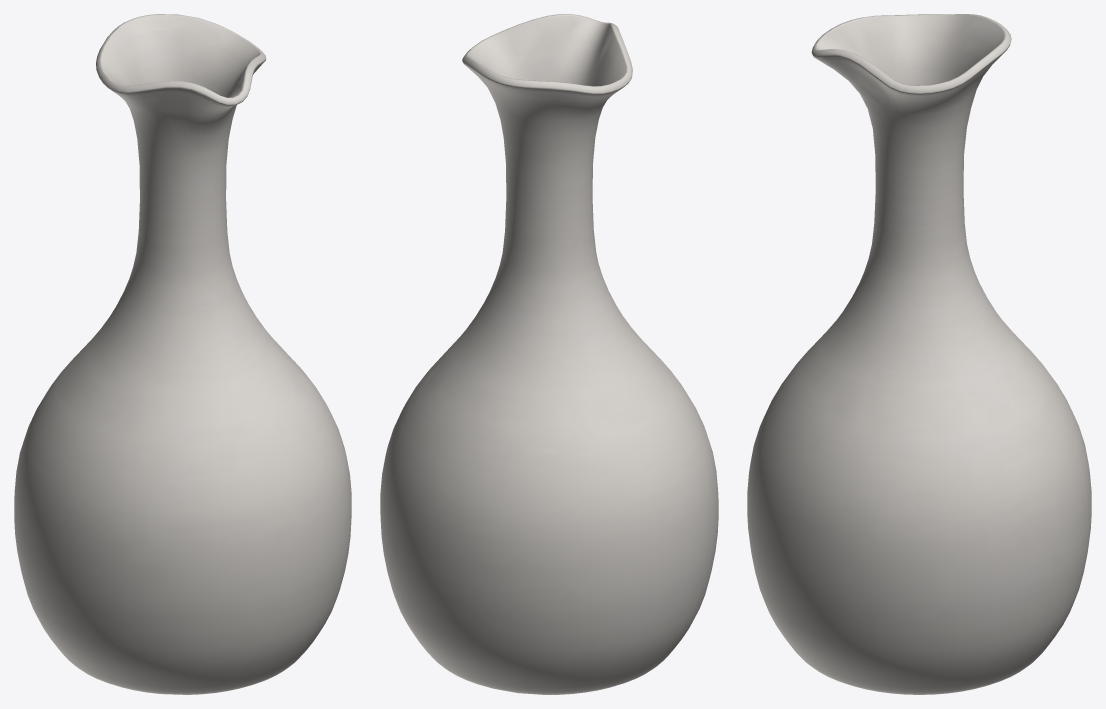
Rendered from ceramic-vase-wide-medium.glb.
3 views of the same model, side by side, from view 1: azimuth 30°, elevation 25°; view 2: azimuth 150°, elevation 25°; view 3: azimuth 270°, elevation 25° (orthographic).
Visible parts, largest first — view 1: ceramic_vase_01; view 2: ceramic_vase_01; view 3: ceramic_vase_01.
Boxes of the visible parts, left/top/right/bottom form: ceramic_vase_01: left=14, top=14, right=351, bottom=694; ceramic_vase_01: left=380, top=14, right=718, bottom=694; ceramic_vase_01: left=747, top=14, right=1091, bottom=694.
Bounding box in the file's own units: 0.2036 × 0.4003 × 0.2036.
1 material, 1 textured.
